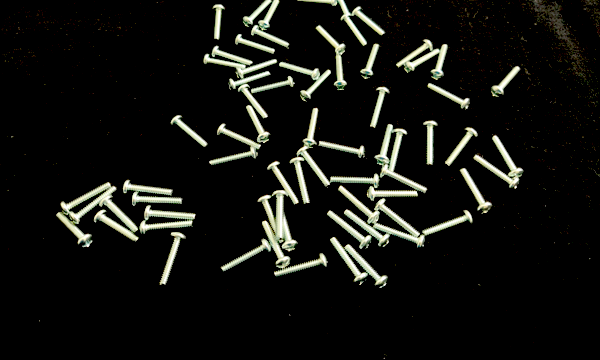longscrew: (344, 243, 390, 292), (329, 237, 370, 287), (69, 186, 118, 227), (219, 238, 273, 275), (325, 210, 373, 251), (344, 209, 391, 250), (373, 198, 421, 238), (474, 154, 521, 193), (60, 182, 112, 216), (93, 209, 140, 246), (337, 186, 381, 225), (158, 231, 188, 287), (458, 168, 493, 215), (99, 195, 140, 235), (378, 163, 429, 195), (374, 222, 427, 252), (273, 252, 329, 280), (54, 212, 95, 250), (296, 146, 332, 189), (267, 161, 301, 206), (261, 221, 292, 270), (492, 136, 525, 180), (443, 128, 479, 168), (422, 210, 475, 237), (257, 194, 285, 244), (170, 115, 210, 150), (428, 83, 471, 113), (237, 83, 270, 121), (395, 39, 435, 70), (217, 123, 261, 151), (351, 6, 387, 39), (299, 69, 332, 103), (245, 105, 273, 145), (209, 146, 259, 168), (289, 157, 311, 206), (490, 66, 522, 99), (318, 140, 366, 162), (250, 25, 292, 50), (340, 13, 369, 49), (387, 128, 409, 175), (211, 45, 254, 69), (139, 220, 195, 238), (404, 48, 442, 74), (368, 87, 391, 129), (316, 25, 347, 56), (366, 186, 419, 204), (228, 71, 271, 93), (235, 33, 276, 56), (278, 209, 299, 253), (131, 192, 185, 209), (235, 58, 278, 79), (374, 124, 395, 167), (144, 205, 197, 222), (250, 76, 296, 95), (242, 0, 273, 28), (330, 173, 381, 190), (273, 190, 290, 241), (278, 62, 321, 82), (421, 121, 439, 168), (122, 180, 174, 196), (301, 108, 320, 150), (360, 44, 381, 80), (203, 54, 247, 70), (430, 44, 449, 81), (258, 0, 280, 31), (211, 3, 226, 43), (334, 55, 349, 92), (297, 0, 338, 9), (329, 0, 352, 16)
